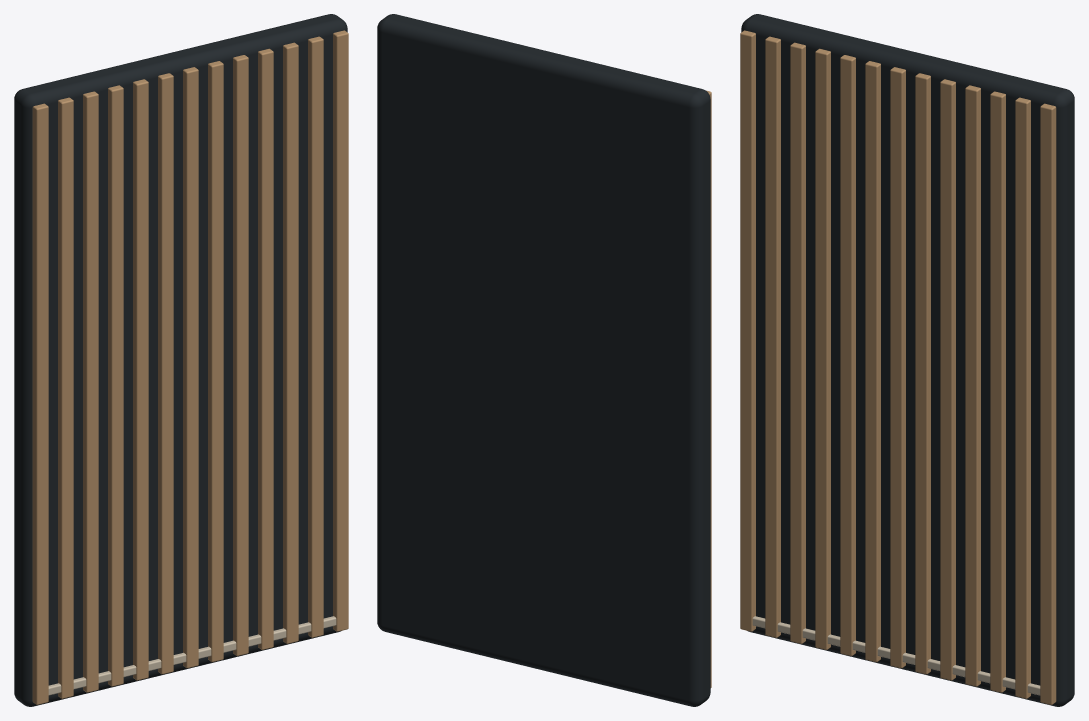
Rendered from acousticPanel-2.glb.
The picture shows the model from 3 angles, left to right: view 1: azimuth 30°, elevation 25°; view 2: azimuth 150°, elevation 25°; view 3: azimuth 330°, elevation 25°; orthographic projection.
Parts seen in each view (by area): view 1: acousticPanel:2:archviz; view 2: acousticPanel:2:archviz; view 3: acousticPanel:2:archviz.
Boxes of the visible parts, x1,y1,x2,y2 form: acousticPanel:2:archviz: (14,14,348,706); acousticPanel:2:archviz: (377,14,711,706); acousticPanel:2:archviz: (740,14,1074,706).
Size of the model in its own units: 0.75 by 1.35 by 0.081.
